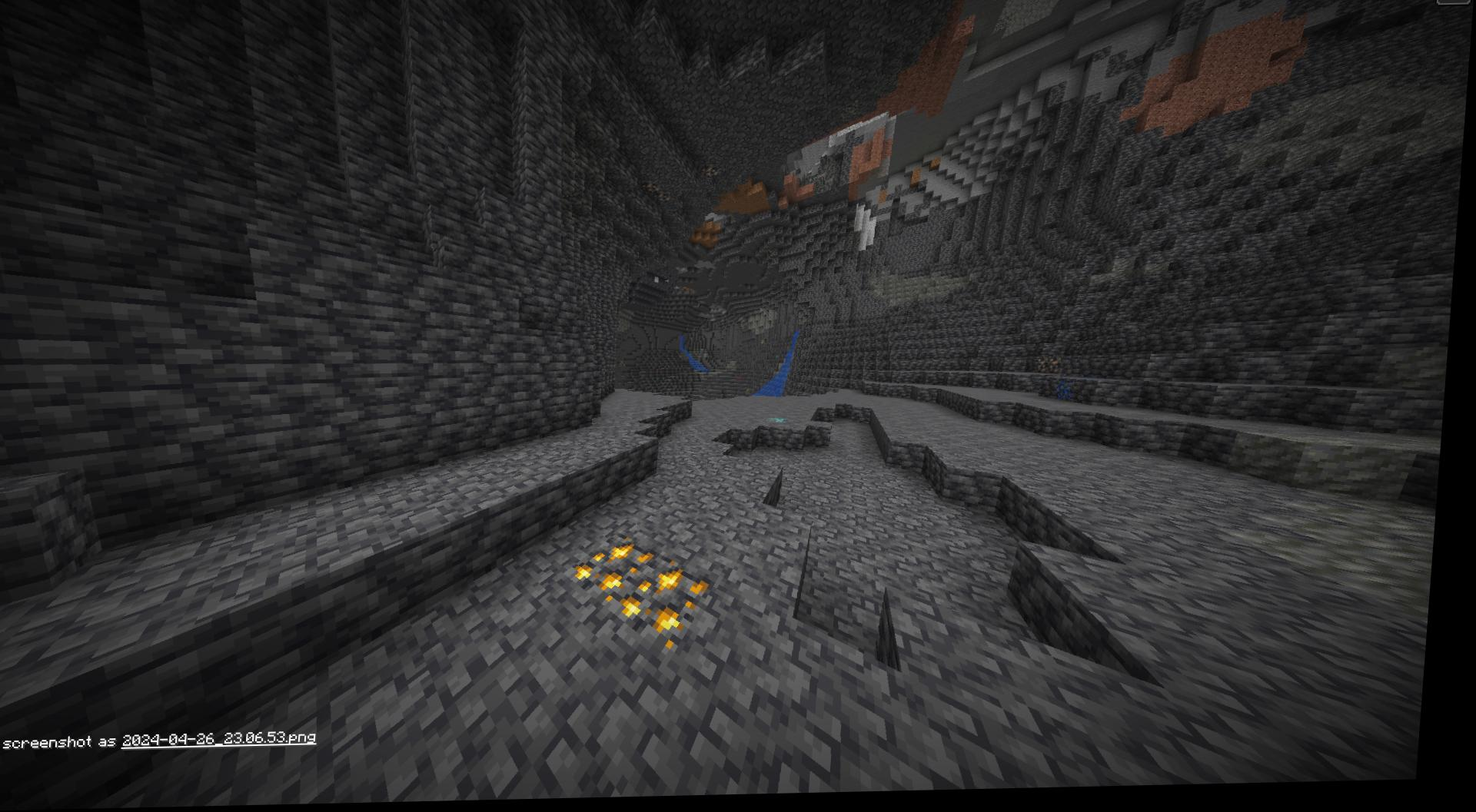diamond ore: (773, 416, 801, 436)
gold ore: (574, 532, 725, 650)
iron ore: (698, 161, 729, 187), (1040, 356, 1073, 379), (648, 181, 676, 208)
